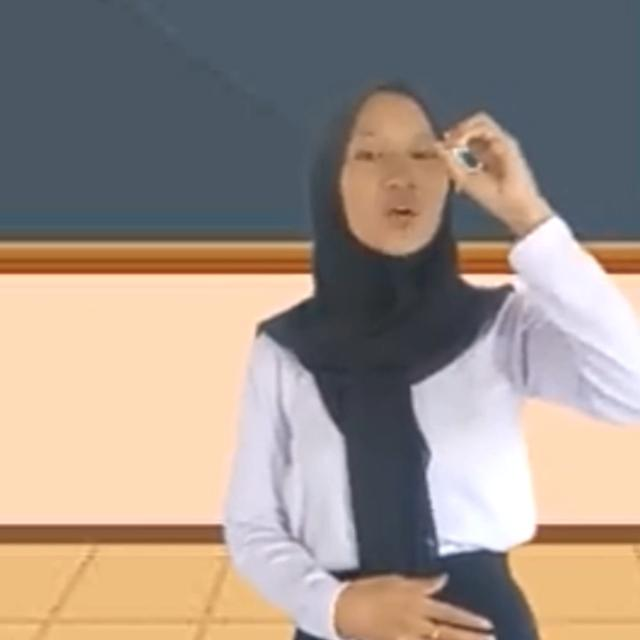O: (436, 101, 536, 222)
